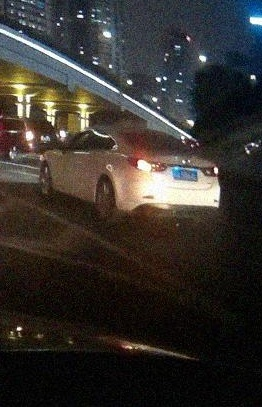L_light: (127, 156, 167, 172), (26, 131, 34, 141)
R_light: (54, 131, 60, 140)
T_light: (151, 135, 163, 137), (36, 120, 43, 122)
day-no: (200, 166, 219, 177)
night-left: (117, 128, 220, 230)
night-no: (24, 118, 60, 164)
